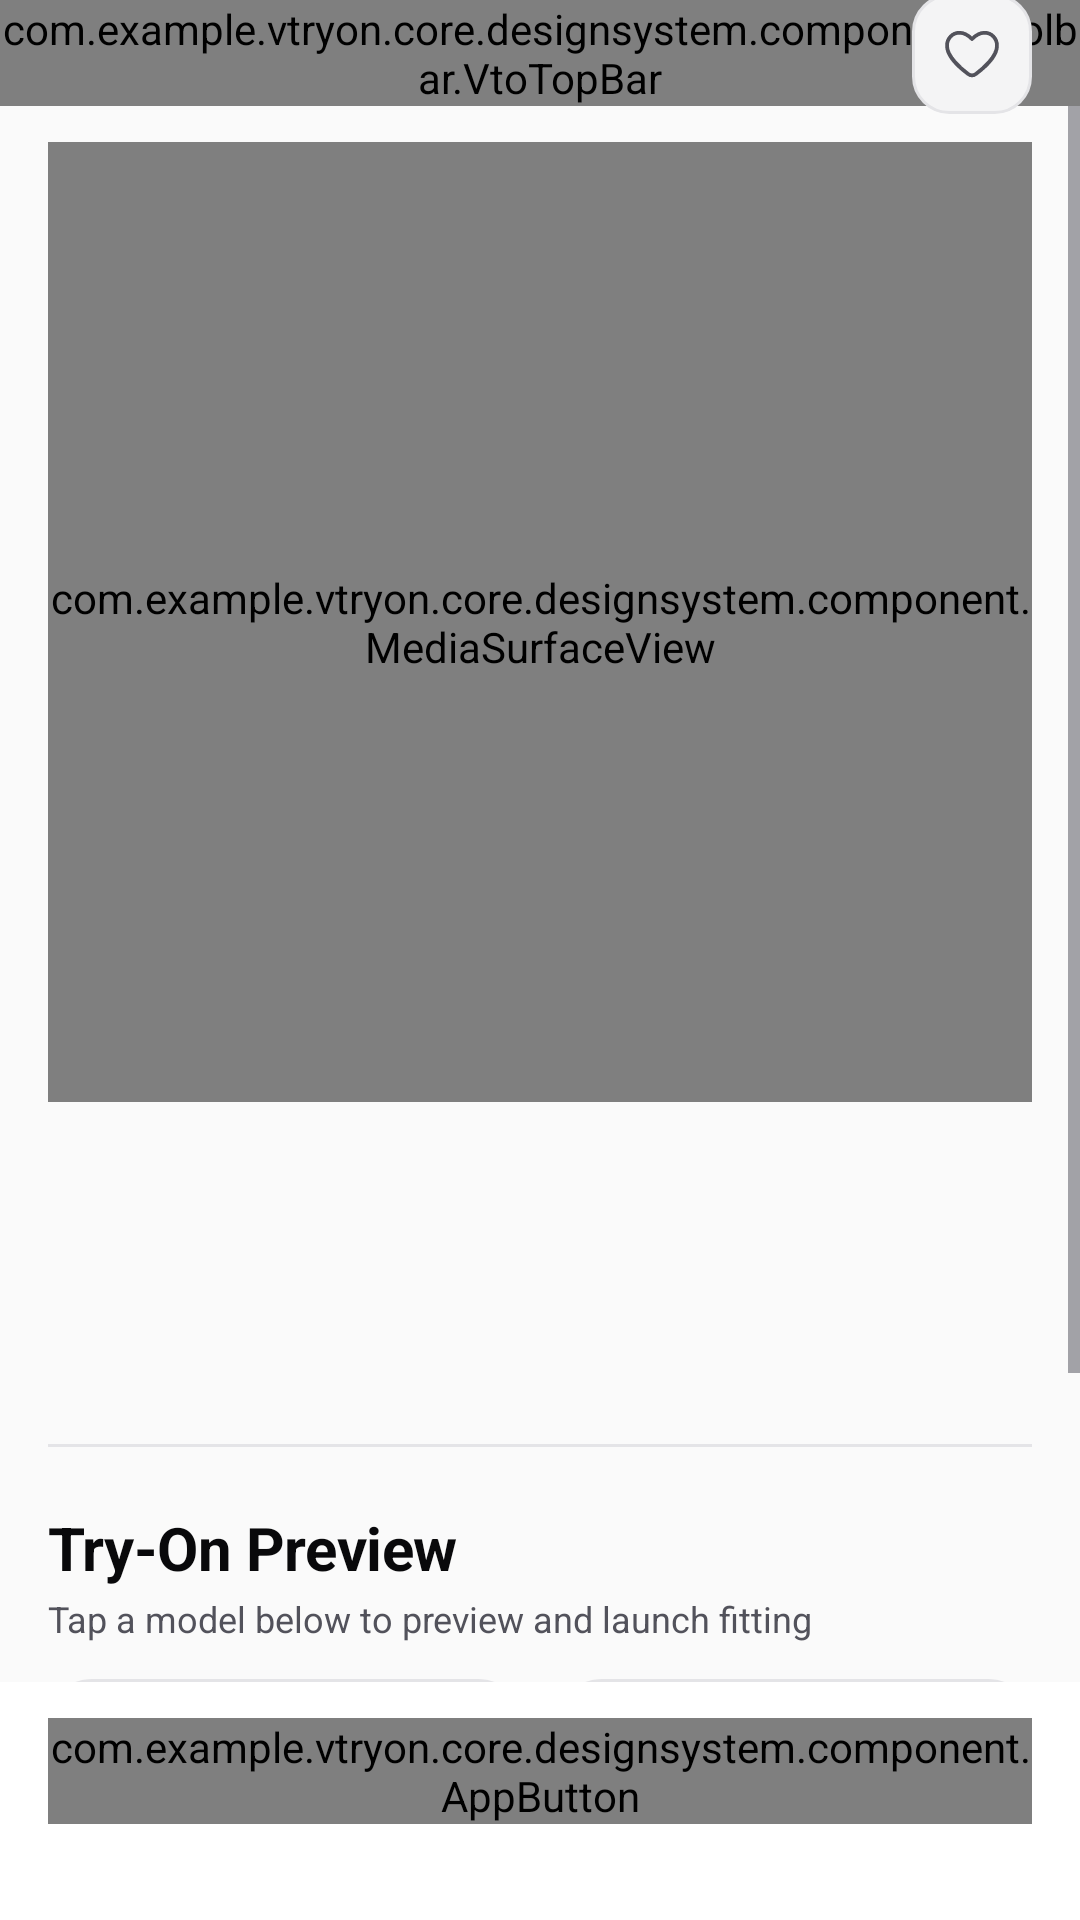

Screen size 1080px x 1920px. Icon name, then its box in pixels as (x1, y1, x2, y2):
Favorite: (945, 31, 999, 78)
